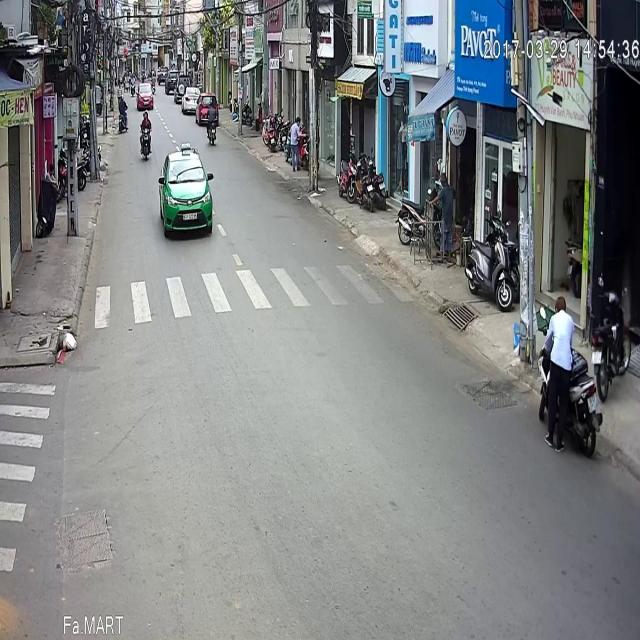car: (158, 86, 212, 180), (195, 34, 217, 68)
motorcycle: (535, 236, 601, 394), (140, 52, 152, 103), (206, 43, 216, 89)
